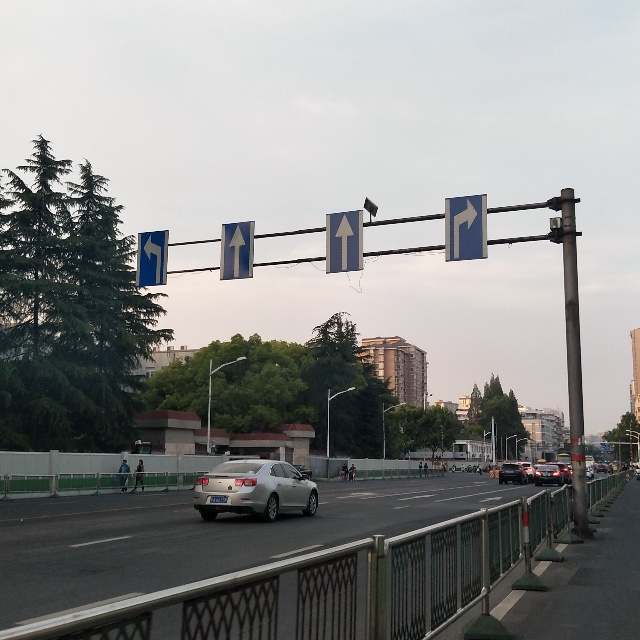left: (138, 232, 168, 285)
right: (454, 198, 478, 262)
straight: (324, 213, 362, 277), (225, 222, 254, 276)
